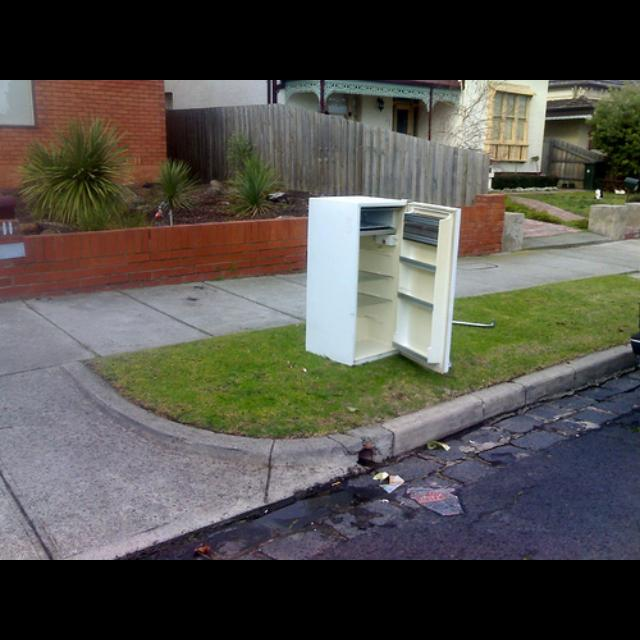Refrigerator: (306, 192, 462, 375)
